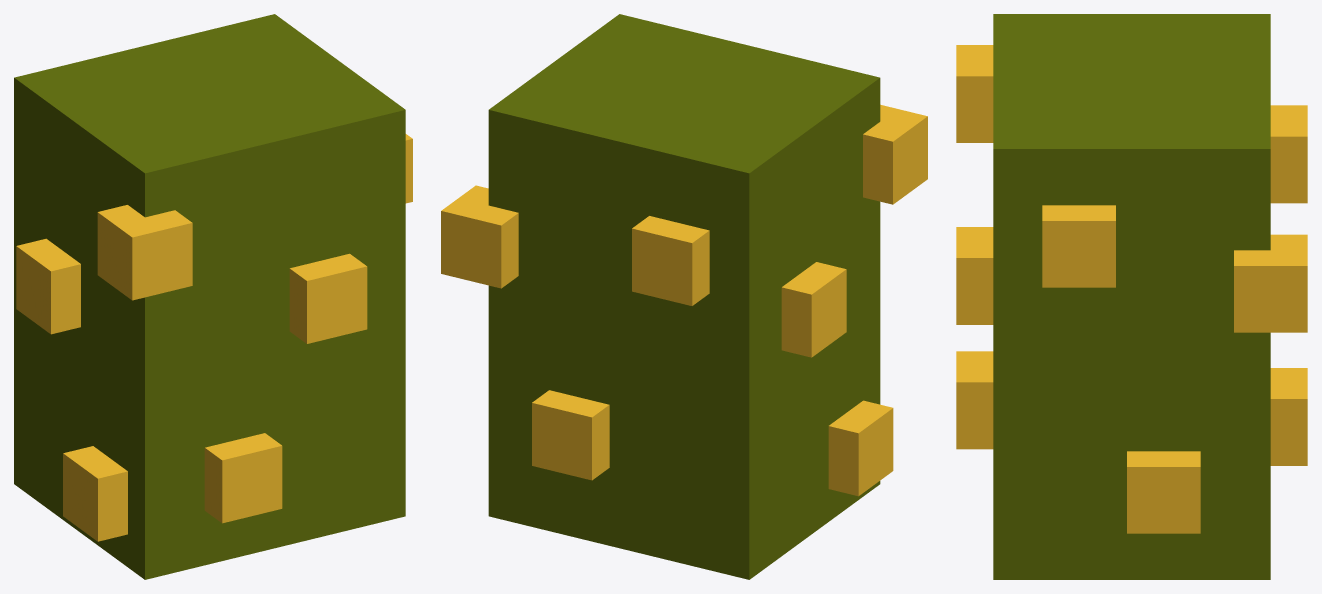
The model's file is FarmBushFruitOrange.fbx.
3 renders of one model, left to right at view 1: azimuth 30°, elevation 25°; view 2: azimuth 150°, elevation 25°; view 3: azimuth 270°, elevation 25°, orthographic. The views are drawn at different scales.
Visible parts, largest first — view 1: FarmBushFruitOrange; view 2: FarmBushFruitOrange; view 3: FarmBushFruitOrange.
Part boxes in pixels (x1,y1,x2,y2): FarmBushFruitOrange: (14, 14, 412, 579); FarmBushFruitOrange: (441, 14, 927, 579); FarmBushFruitOrange: (956, 14, 1307, 579).
Size of the model in its own units: 0.2949 by 0.3569 by 0.2636.
